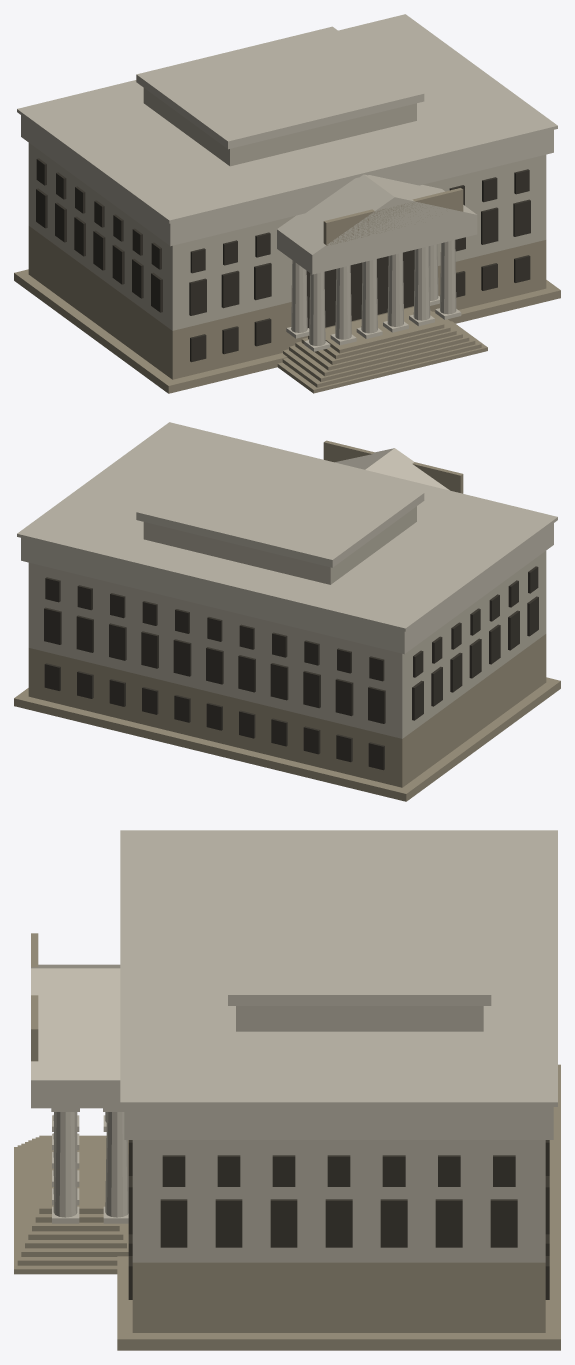
Rendered from mansion_house.glb.
3 renders of one model, top to bottom at view 1: azimuth 30°, elevation 25°; view 2: azimuth 150°, elevation 25°; view 3: azimuth 270°, elevation 25°, orthographic. The views are drawn at different scales.
Parts seen in each view (by area): view 1: mansion_house; view 2: mansion_house; view 3: mansion_house.
Boxes of the visible parts, x1,y1,x2,y2 form: mansion_house: [14, 14, 560, 393]; mansion_house: [14, 422, 560, 801]; mansion_house: [14, 830, 560, 1350].
Size of the model in its own units: 63 by 35.2 by 53.
